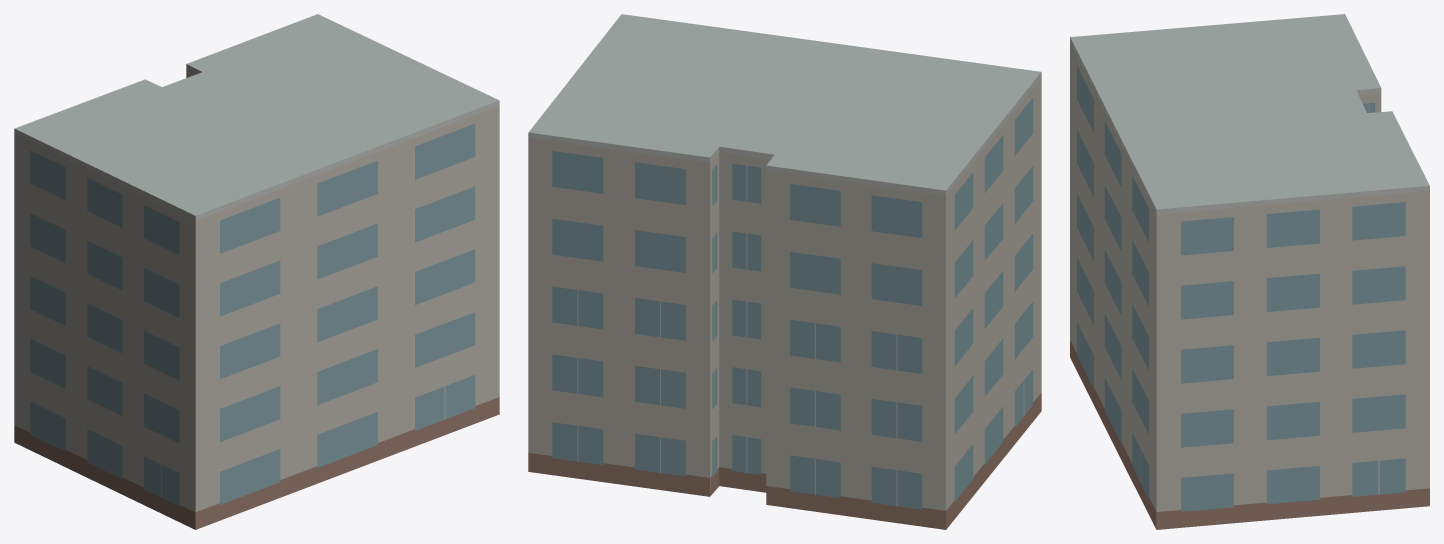
The model's file is survey-upis-32720585.glb.
The picture shows the model from 3 angles, left to right: view 1: azimuth 30°, elevation 25°; view 2: azimuth 150°, elevation 25°; view 3: azimuth 270°, elevation 25°; orthographic projection. The views are drawn at different scales.
Visible parts, largest first — view 1: survey-upis-32720585.tmp; view 2: survey-upis-32720585.tmp; view 3: survey-upis-32720585.tmp.
Boxes of the visible parts, x1=… form: survey-upis-32720585.tmp: x1=14, y1=14, x2=499, y2=529; survey-upis-32720585.tmp: x1=528, y1=14, x2=1041, y2=529; survey-upis-32720585.tmp: x1=1070, y1=14, x2=1429, y2=529.
Size of the model in its own units: 19.97 by 15.25 by 15.53.
